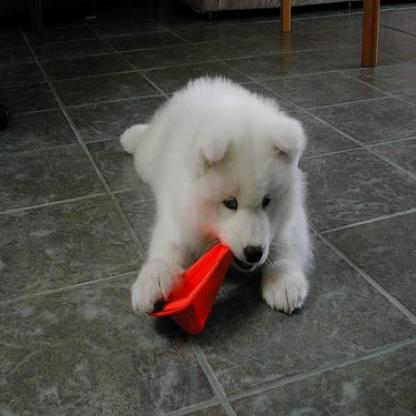Samoyed: (116, 74, 311, 314)
